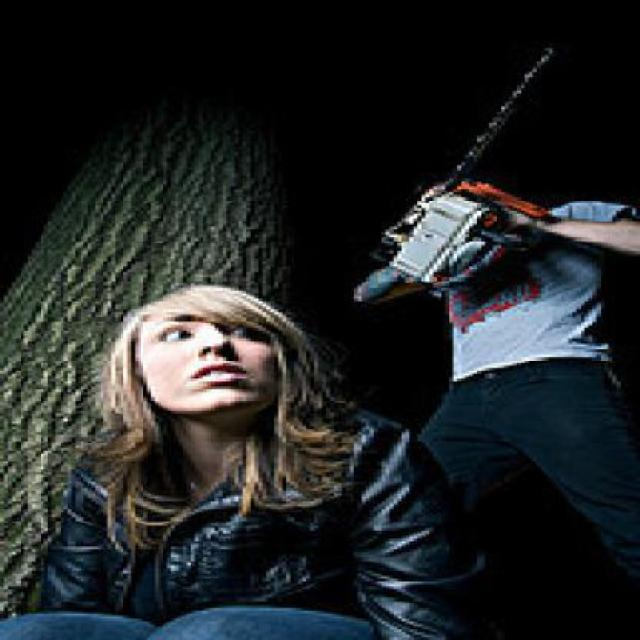Chainsaw: (340, 43, 571, 320)
